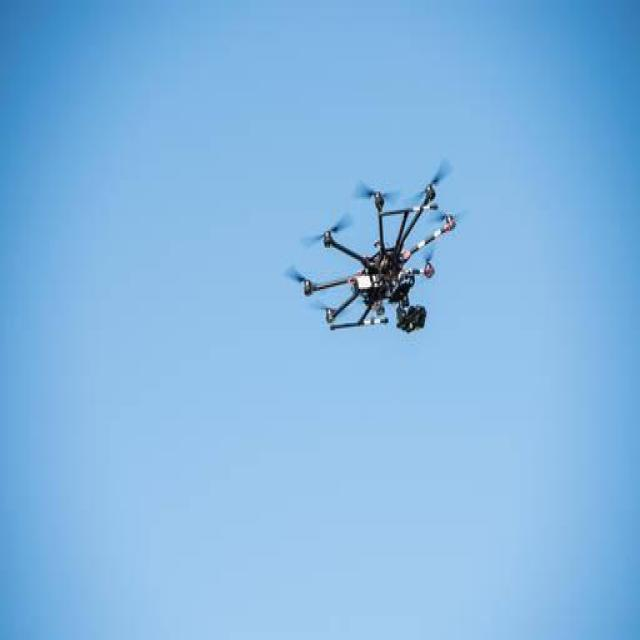UAV: (299, 176, 459, 336)
